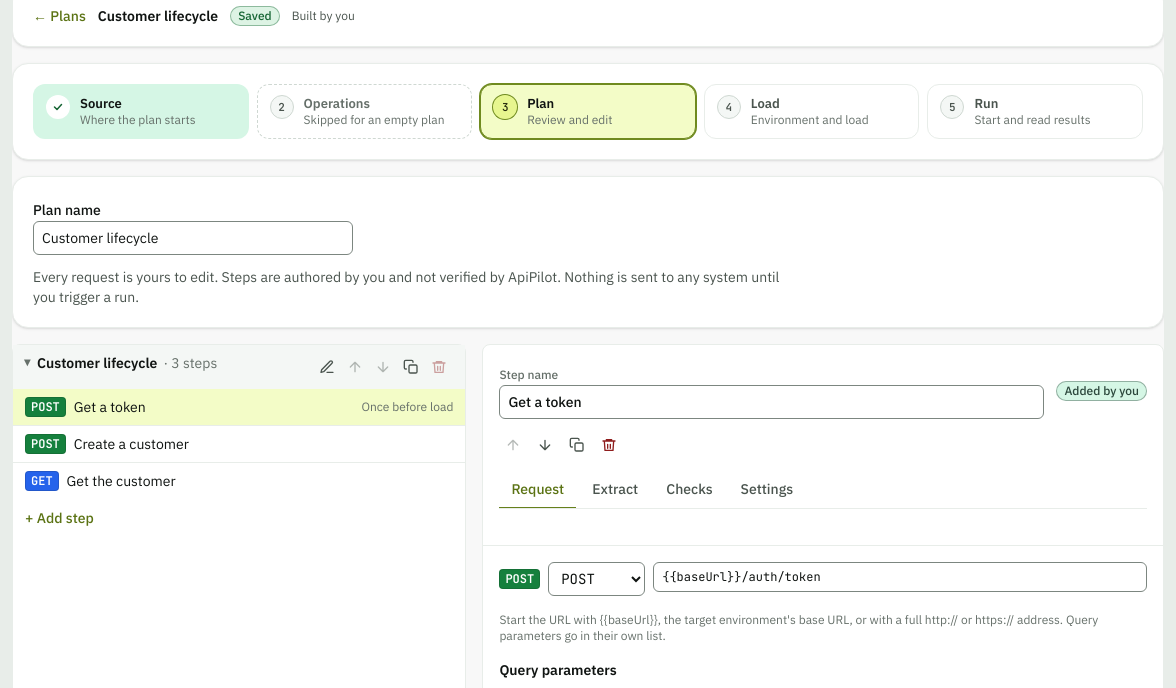
Test: the plan's chains on the Plan step › refuses Host as a header in text, with the reason
This screenshot has width=1176, height=688.
Expected: the field labelled "Plan name" is shown, [33,221,353,255]
Click the text "Get the customer" at x=121, y=481, box [67,472,176,490]
(page scrolled)
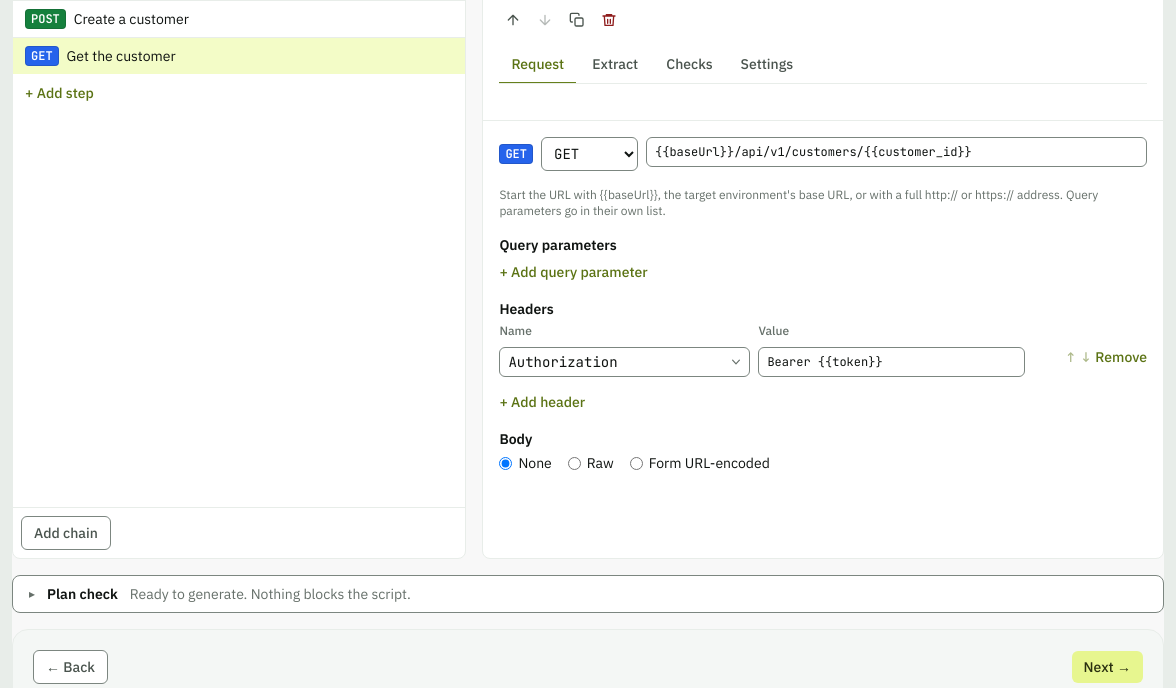
Replace the text in the dropdown named "Headers 1 name" with "Host" at x=625, y=362, box [499,347,750,377]
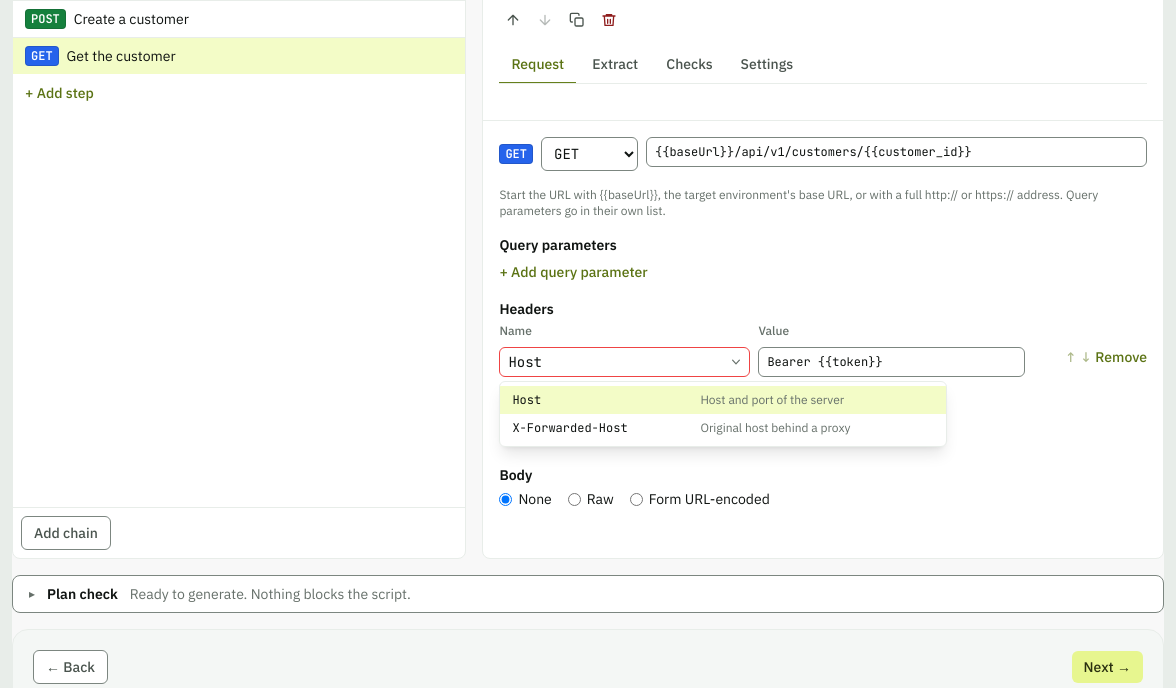
Expected: the message reads "k6 sets Host for every request, so a step cannot set it.", [499,381,715,412]
